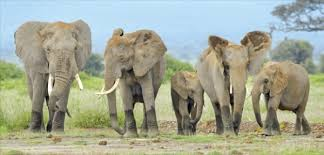Elephant: (15, 18, 94, 134)
